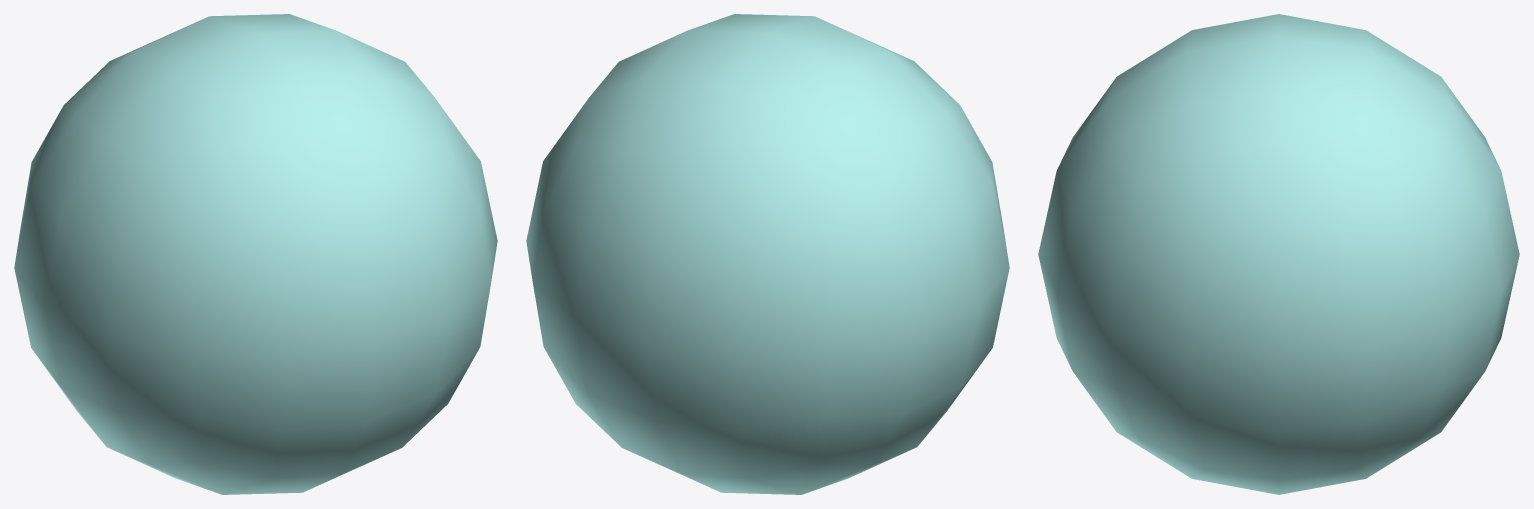
File: eff_foam_strayfoam04.fbx
The picture shows the model from 3 angles, left to right: view 1: azimuth 30°, elevation 25°; view 2: azimuth 150°, elevation 25°; view 3: azimuth 270°, elevation 25°; orthographic projection.
Parts seen in each view (by area): view 1: foamSphere.001; view 2: foamSphere.001; view 3: foamSphere.001.
Part boxes in pixels (box(x1,y1,x2,y2)): foamSphere.001: box(14, 14, 497, 494); foamSphere.001: box(526, 14, 1009, 494); foamSphere.001: box(1038, 14, 1519, 494).
Bounding box in the file's own units: 0.4157 × 0.4157 × 0.4157.
